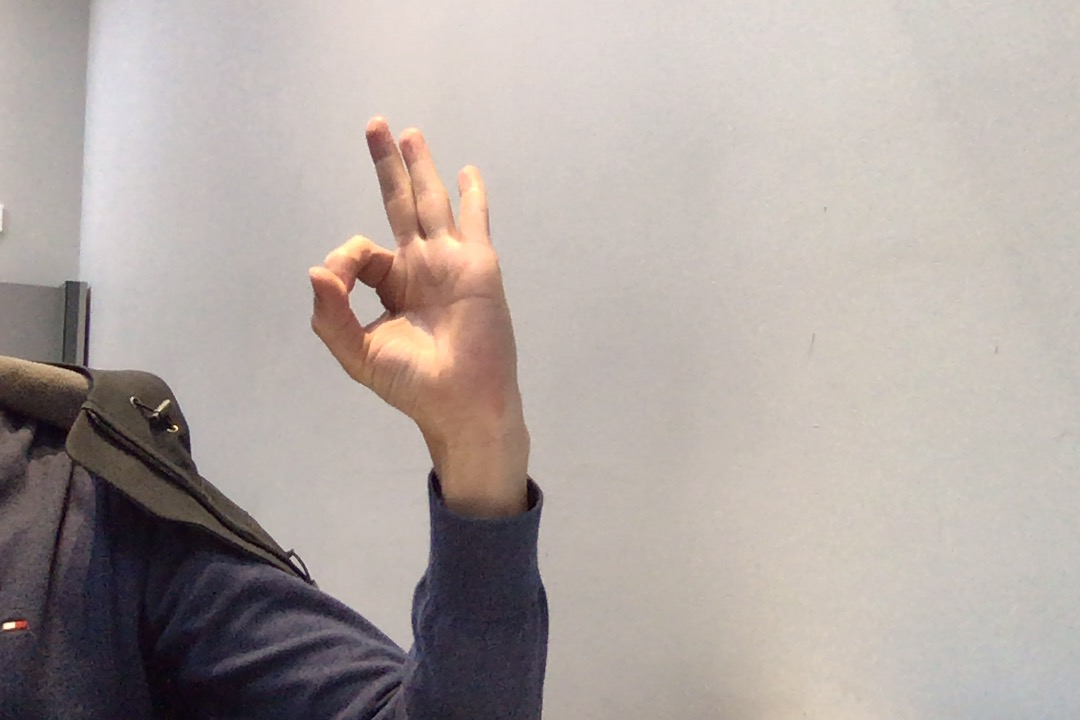oksign: (296, 108, 530, 433)
